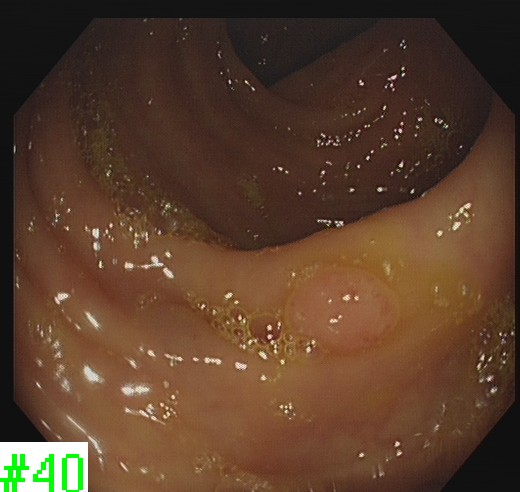others: (280, 263, 402, 355)
